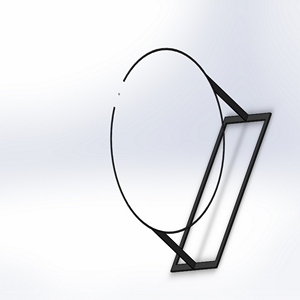circle: (108, 45, 273, 273)
